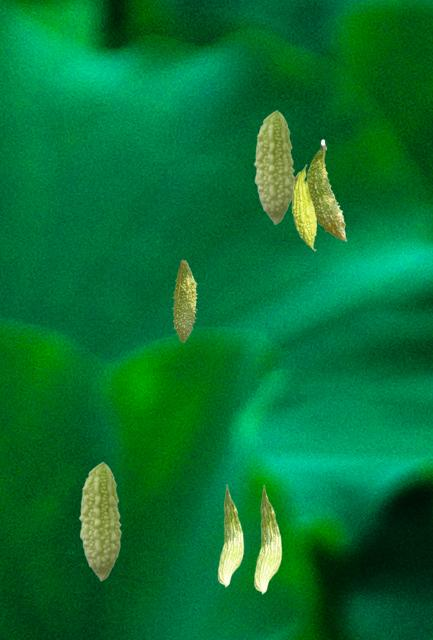ampalaya: (78, 461, 121, 581), (253, 109, 295, 225), (306, 139, 347, 241), (253, 484, 282, 595), (217, 483, 244, 588), (291, 163, 317, 252), (171, 259, 198, 343)
